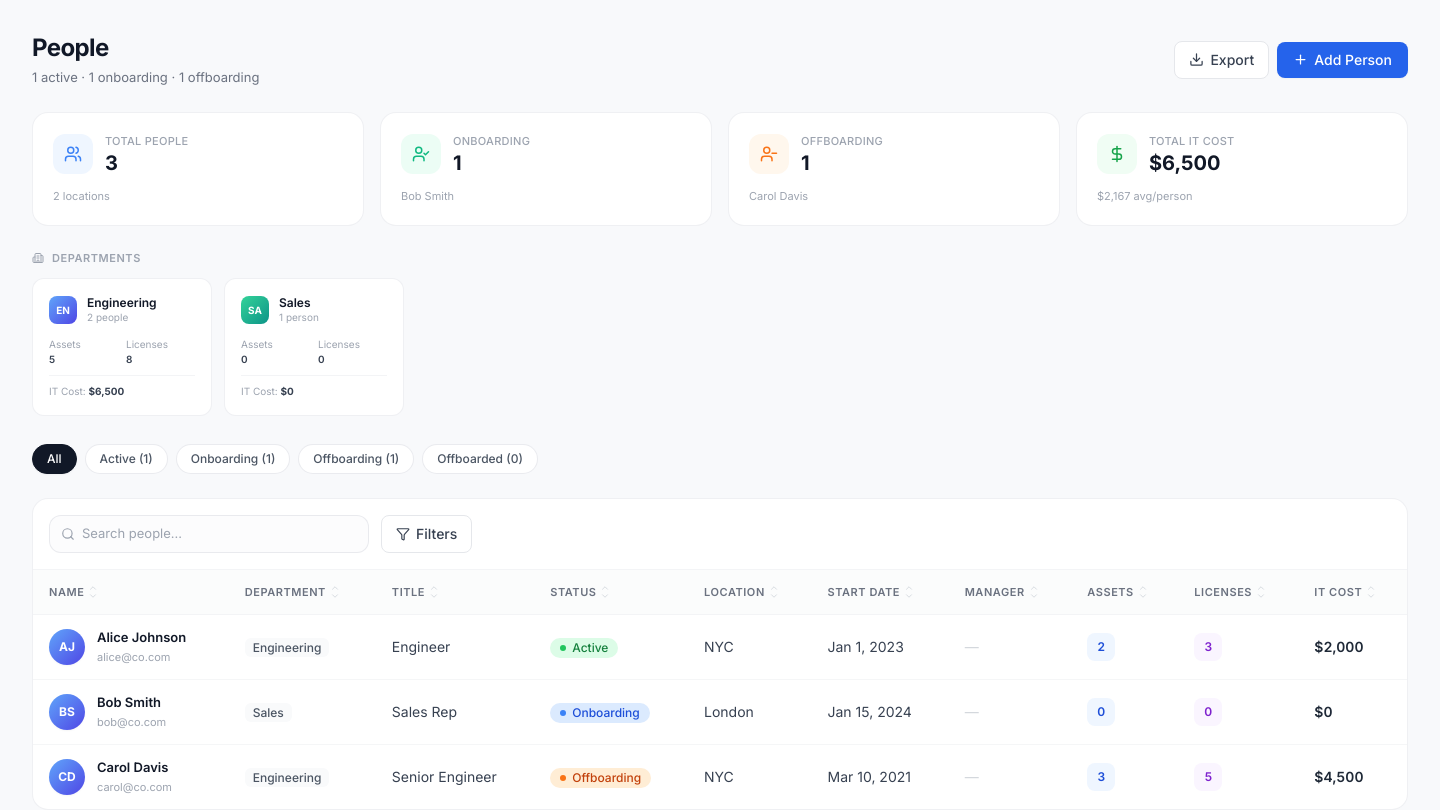
Scenario: PeopleList page › filters people by email when searching
Type "bob@co.com" into the field with placeholder "Search people..." at (209, 534), box [49,515,369,553]
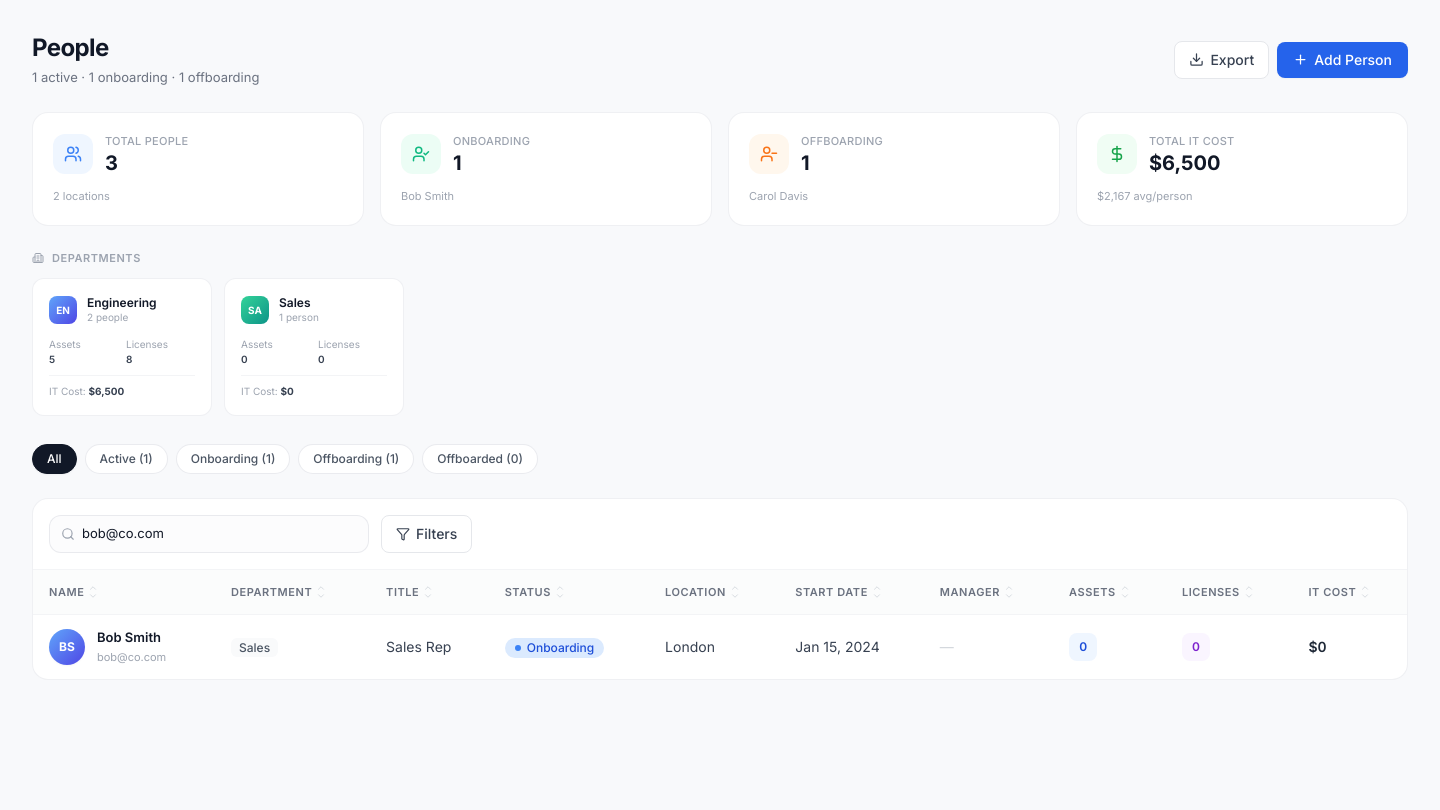
Expected: the text "bob@co.com" is shown, [97,647,166,667]
Result: the text "alice@co.com" is gone
